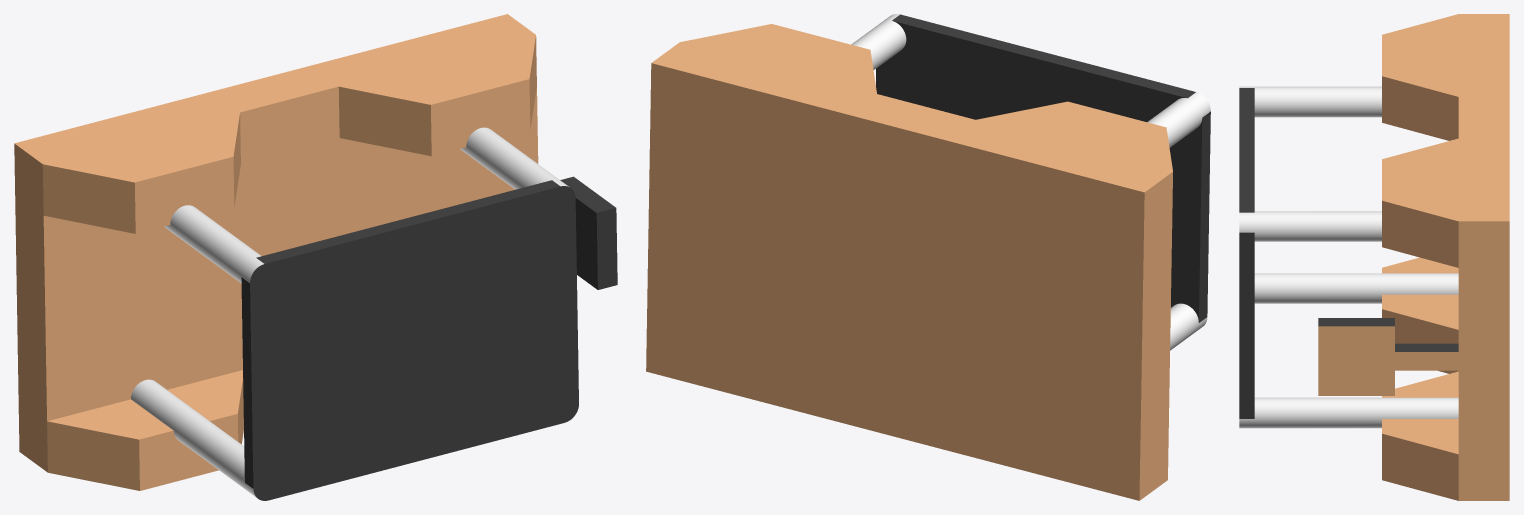
The model's file is chassis.dae.
The picture shows the model from 3 angles, left to right: view 1: azimuth 30°, elevation 25°; view 2: azimuth 150°, elevation 25°; view 3: azimuth 270°, elevation 25°; orthographic projection. The views are drawn at different scales.
Visible parts, largest first — view 1: _ncl1_3, _ncl1_6, chassis; view 2: _ncl1_3, _ncl1_6, chassis; view 3: _ncl1_3, chassis, _ncl1_6.
Boxes of the visible parts, x1,y1,x2,y2 form: _ncl1_3: (14,14,538,490); _ncl1_6: (241,176,617,500); chassis: (131,127,568,497); _ncl1_3: (646,24,1172,500); _ncl1_6: (876,14,1210,322); chassis: (851,14,1210,350); _ncl1_3: (1318,14,1509,500); chassis: (1239,86,1458,428); _ncl1_6: (1239,88,1458,418).
Bounding box in the file's own units: 0.5052 × 0.3087 × 0.265.
